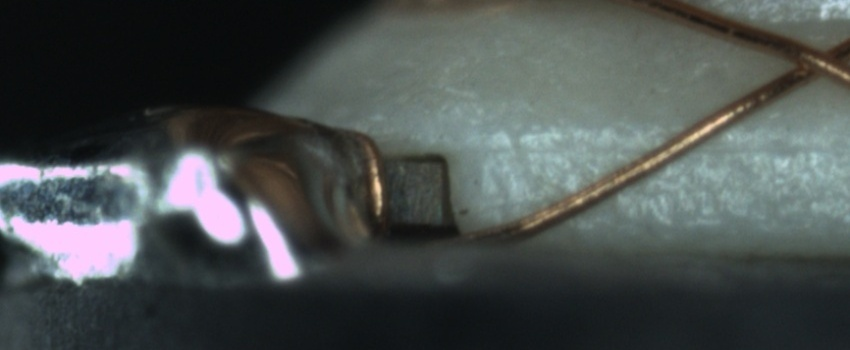CL: (773, 29, 847, 91)
DL: (498, 114, 845, 175)
TE: (343, 111, 388, 249)
